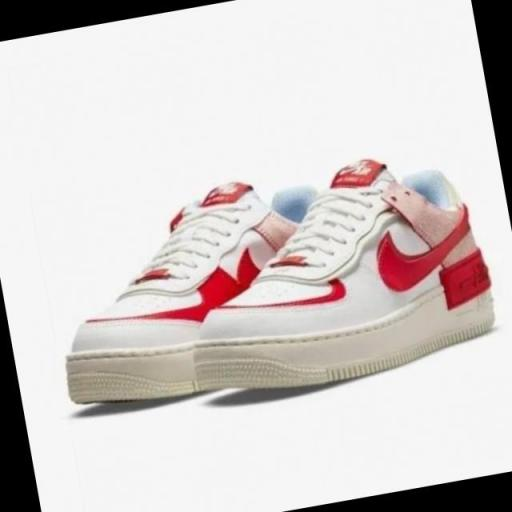Nike: (363, 199, 484, 302)
